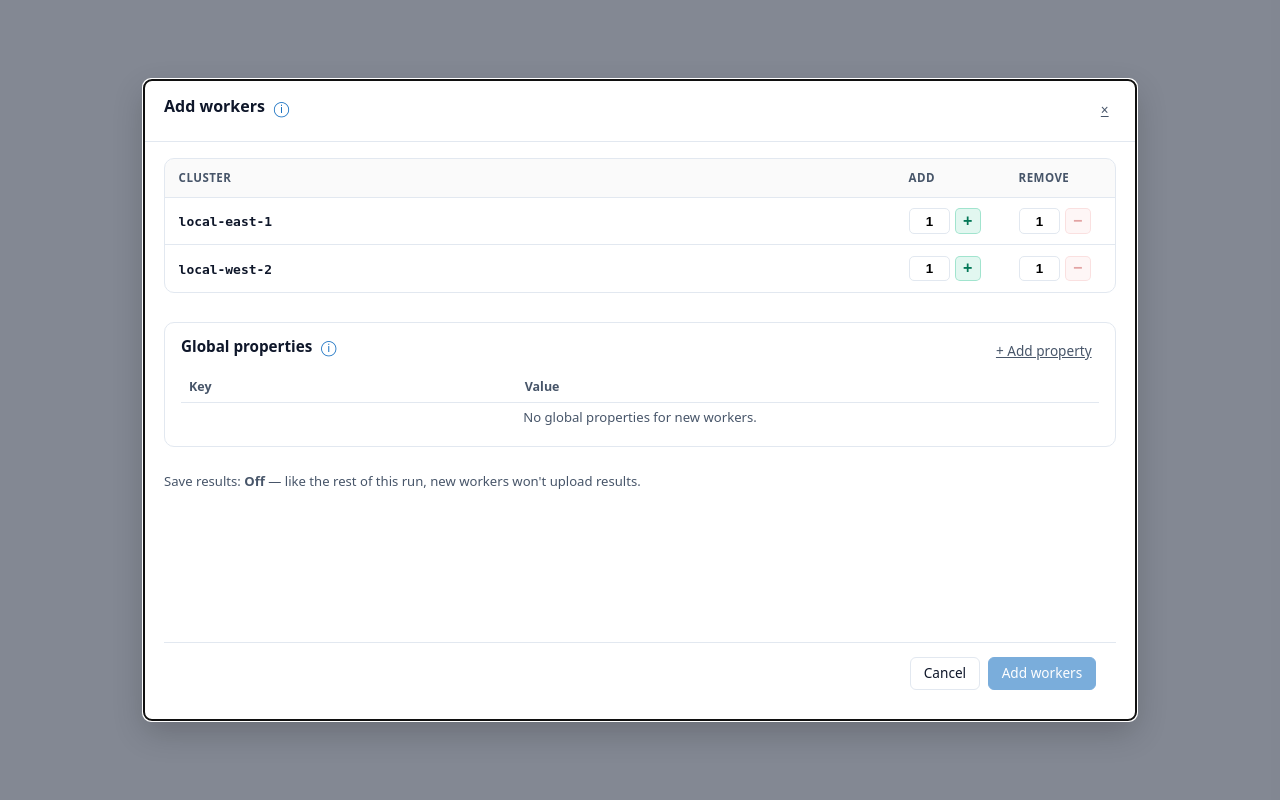
Test case: ScaleUpRunModal — pre-condition errors › RUN_NOT_SCALABLE surfaces a failed stage with the error message
The image size is (1280, 800).
Click the button named "add workers to local-east-1" at (968, 221), box [955,208,981,234]
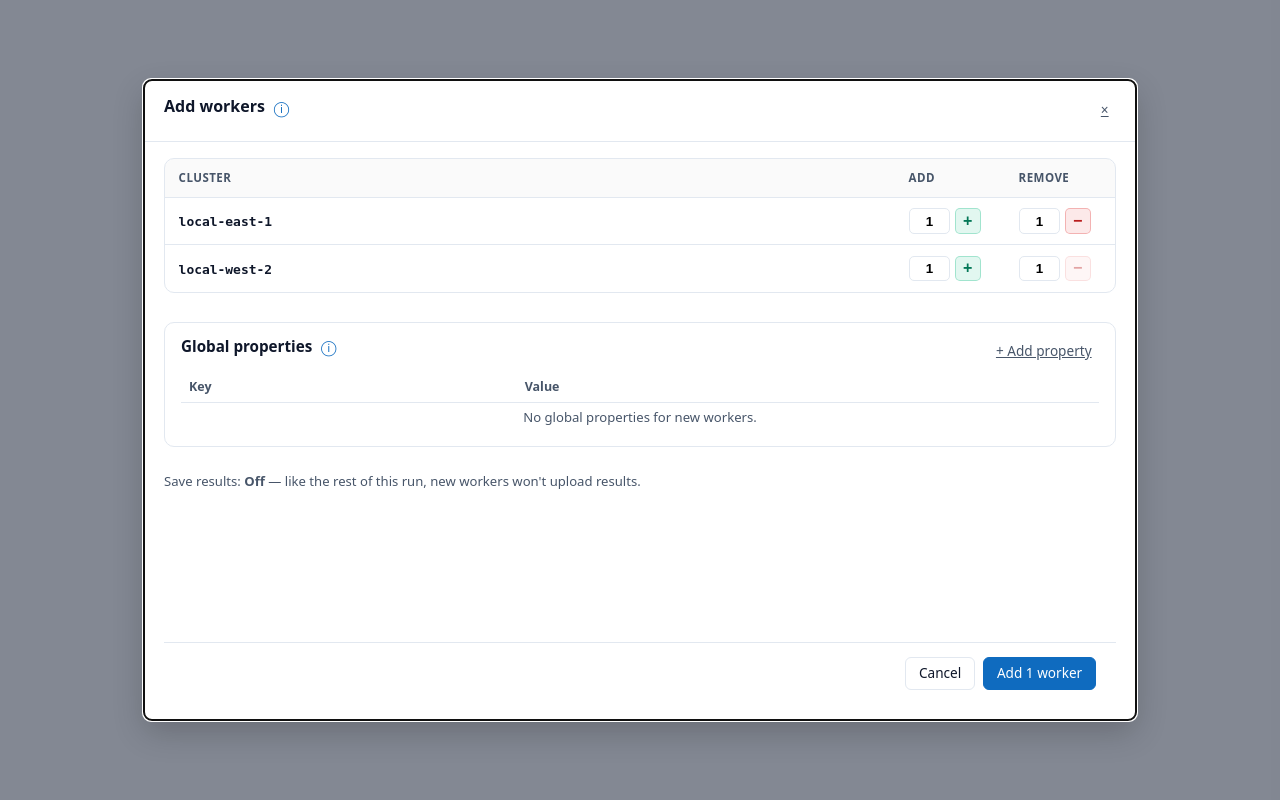
Click the button "Add 1 worker" at (1040, 674), box [983,657,1096,690]
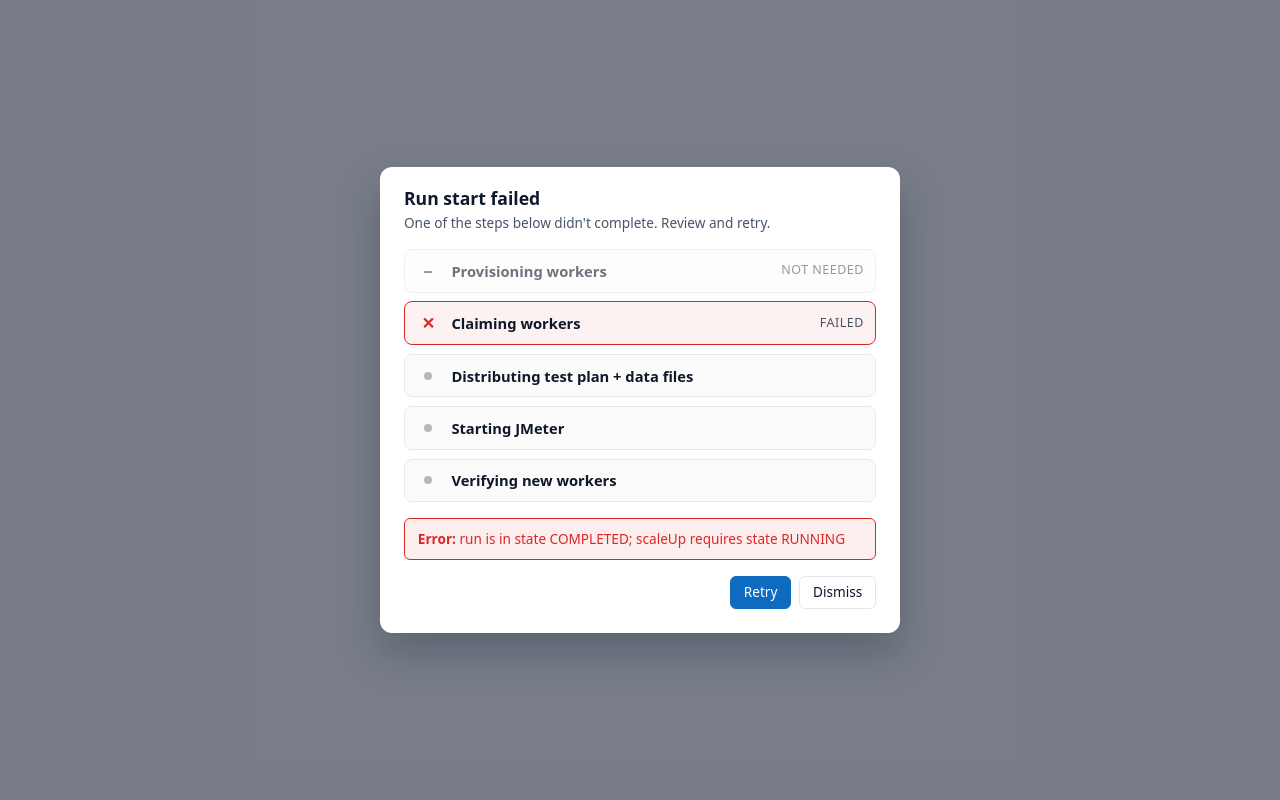
expect the text "Error: run is in state COMPLETED; scaleUp requires state RUNNING" is shown: met, box [404,518,876,560]
